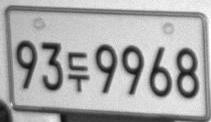3: (41, 41, 63, 91)
6: (148, 46, 172, 97)
8: (175, 46, 200, 99)
9: (94, 43, 117, 94), (121, 44, 144, 95), (15, 39, 37, 90)
두: (67, 51, 90, 92)
